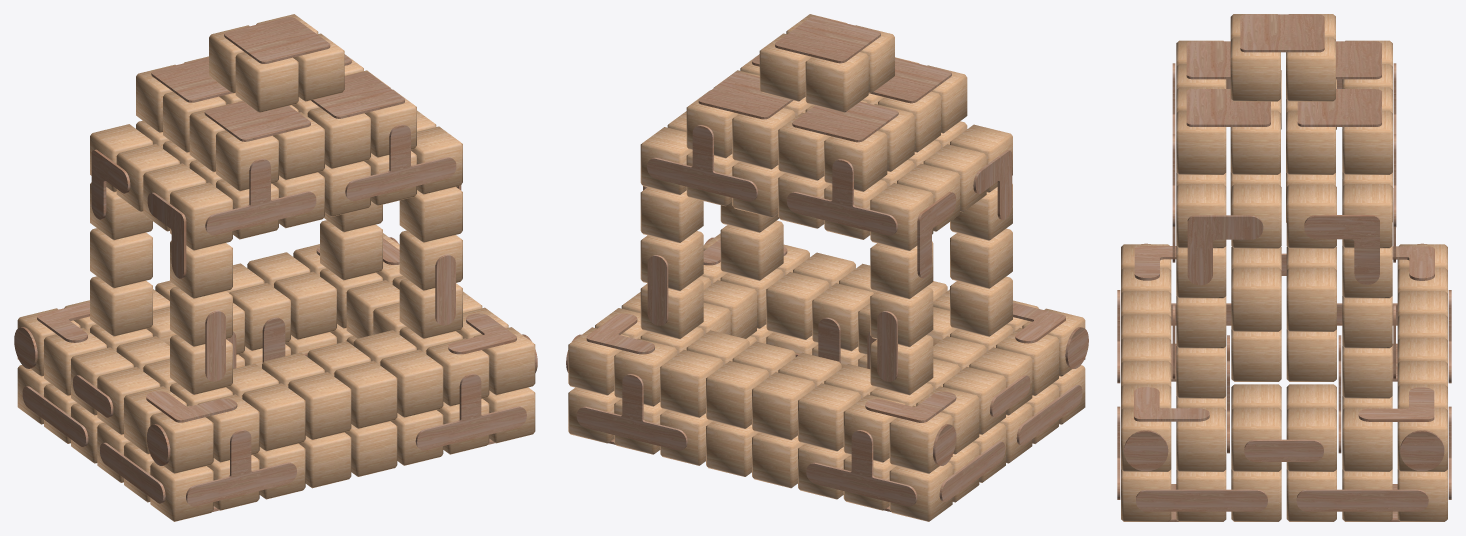
Rendered from level_82.fbx.
The picture shows the model from 3 angles, left to right: view 1: azimuth 30°, elevation 25°; view 2: azimuth 150°, elevation 25°; view 3: azimuth 270°, elevation 25°; orthographic projection. The views are drawn at different scales.
Parts seen in each view (by area): view 1: obj_obs_T.003, obj_obs_T.006, obj_obs_T.005, obj_obs_T.004, obj_obs_square.002, Cube.134, Cube.085, Cube.081, Cube.083, Cube.005, Cube.002, Cube.003 (+81 smaller); view 2: obj_obs_T.002, obj_obs_T.001, obj_obs_T.007, obj_obs_T.008, Cube.132, obj_obs_square.002, Cube.082, Cube.080, Cube.084, Cube.011, Cube.035, Cube.033 (+82 smaller); view 3: Cube.013, obj_obs_square.002, Cube.019, obj_obs_L.013, obj_obs_L.012, obj_obs_Y.002, obj_obs_Y.003, Cube.039, Cube.045, obj_obs_square.007, obj_obs_square.009, Cube.135 (+62 smaller).
Boxes of the visible parts, left/top/right/bottom form: obj_obs_T.003: left=415, top=373, right=526, bottom=450; obj_obs_T.006: left=205, top=158, right=316, bottom=235; obj_obs_T.005: left=345, top=124, right=456, bottom=201; obj_obs_T.004: left=186, top=429, right=296, bottom=506; obj_obs_square.002: left=224, top=17, right=330, bottom=63; Cube.134: left=235, top=52, right=298, bottom=112; Cube.085: left=90, top=228, right=152, bottom=288; Cube.081: left=90, top=276, right=152, bottom=336; Cube.083: left=320, top=220, right=382, bottom=280; Cube.005: left=380, top=349, right=443, bottom=417; Cube.002: left=242, top=383, right=305, bottom=451; Cube.003: left=288, top=372, right=351, bottom=439; obj_obs_T.002: left=806, top=430, right=917, bottom=506; obj_obs_T.001: left=576, top=374, right=687, bottom=450; obj_obs_T.007: left=647, top=125, right=757, bottom=201; obj_obs_T.008: left=787, top=159, right=897, bottom=235; Cube.132: left=805, top=52, right=868, bottom=112; obj_obs_square.002: left=775, top=16, right=880, bottom=63; Cube.082: left=720, top=220, right=783, bottom=280; Cube.080: left=950, top=276, right=1012, bottom=336; Cube.084: left=950, top=228, right=1012, bottom=288; Cube.011: left=766, top=272, right=829, bottom=339; Cube.035: left=660, top=350, right=723, bottom=417; Cube.033: left=752, top=372, right=814, bottom=440; Cube.013: left=1231, top=267, right=1281, bottom=331; obj_obs_square.002: left=1240, top=14, right=1324, bottom=52; Cube.019: left=1286, top=267, right=1336, bottom=331; obj_obs_L.013: left=1187, top=215, right=1263, bottom=285; obj_obs_L.012: left=1304, top=215, right=1379, bottom=284; obj_obs_Y.002: left=1296, top=489, right=1428, bottom=511; obj_obs_Y.003: left=1136, top=489, right=1267, bottom=511; Cube.039: left=1176, top=407, right=1226, bottom=471; Cube.045: left=1342, top=407, right=1392, bottom=471; obj_obs_square.007: left=1297, top=89, right=1381, bottom=126; obj_obs_square.009: left=1186, top=89, right=1270, bottom=126; Cube.135: left=1230, top=37, right=1280, bottom=101.
Bounding box in the file's own units: 17.69 × 17.65 × 13.31.
